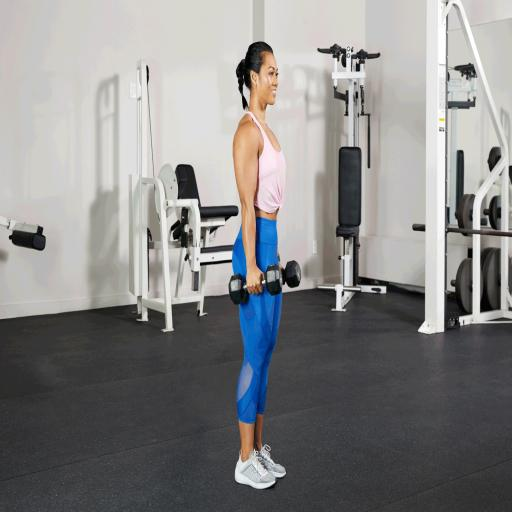exercise: (228, 40, 290, 492)
